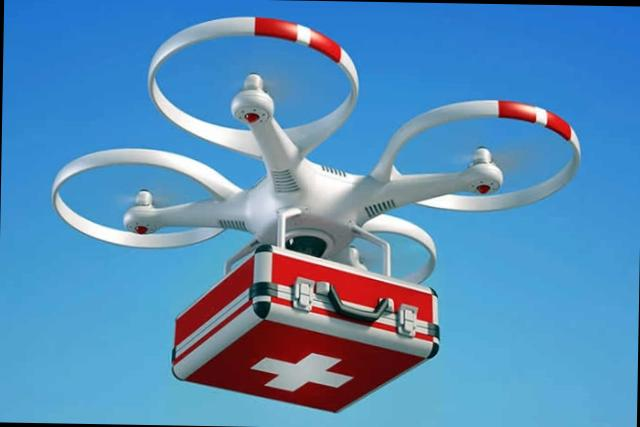drone: (19, 23, 598, 317)
